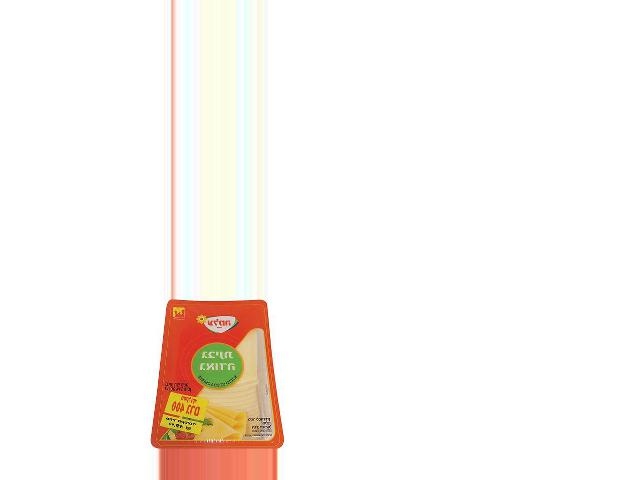cheese: (150, 300, 283, 449)
